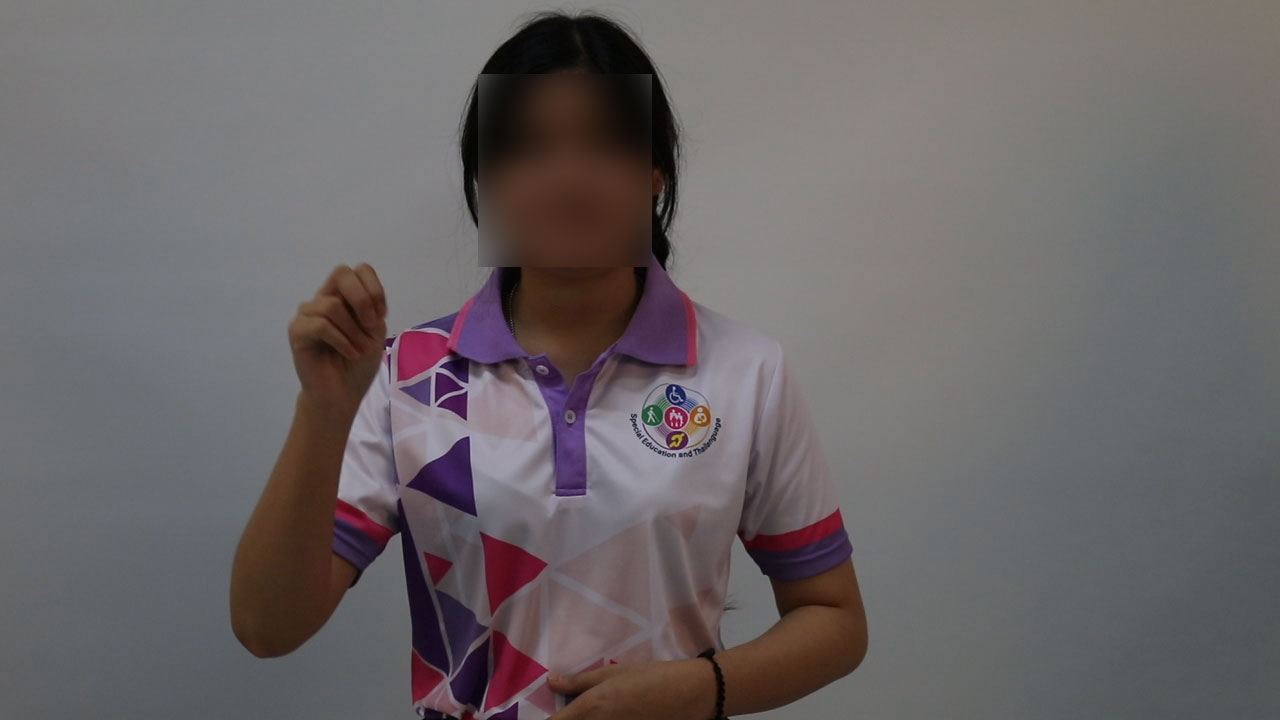nor: (278, 254, 403, 403)
